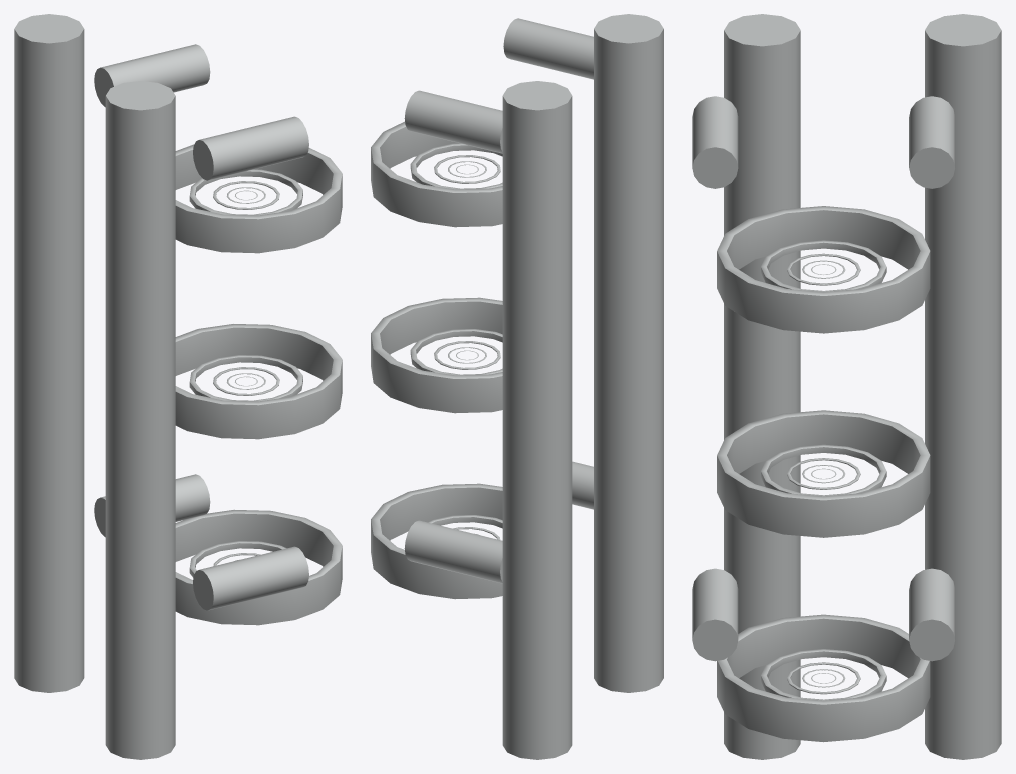
File: Bathroom_KüvetRaf.fbx
3 renders of one model, left to right at view 1: azimuth 30°, elevation 25°; view 2: azimuth 150°, elevation 25°; view 3: azimuth 270°, elevation 25°, orthographic. The views are drawn at different scales.
Parts seen in each view (by area): view 1: Cylinder.015, Cylinder.002, Cylinder.016, Cylinder.017; view 2: Cylinder.015, Cylinder.002, Cylinder.016, Cylinder.017; view 3: Cylinder.016, Cylinder.015, Cylinder.002, Cylinder.017.
Boxes of the visible parts, bbox=[...] form: Cylinder.015: bbox=[14, 14, 84, 692]; Cylinder.002: bbox=[105, 81, 175, 759]; Cylinder.016: bbox=[175, 144, 342, 625]; Cylinder.017: bbox=[94, 44, 308, 610]; Cylinder.015: bbox=[502, 81, 572, 759]; Cylinder.002: bbox=[594, 14, 663, 692]; Cylinder.016: bbox=[371, 121, 502, 599]; Cylinder.017: bbox=[404, 18, 593, 583]; Cylinder.016: bbox=[717, 206, 930, 742]; Cylinder.015: bbox=[925, 14, 1001, 759]; Cylinder.002: bbox=[724, 14, 800, 759]; Cylinder.017: bbox=[692, 96, 955, 661].
Size of the model in its own units: 33.91 by 84.9 by 33.36.
1 material, 1 textured.
